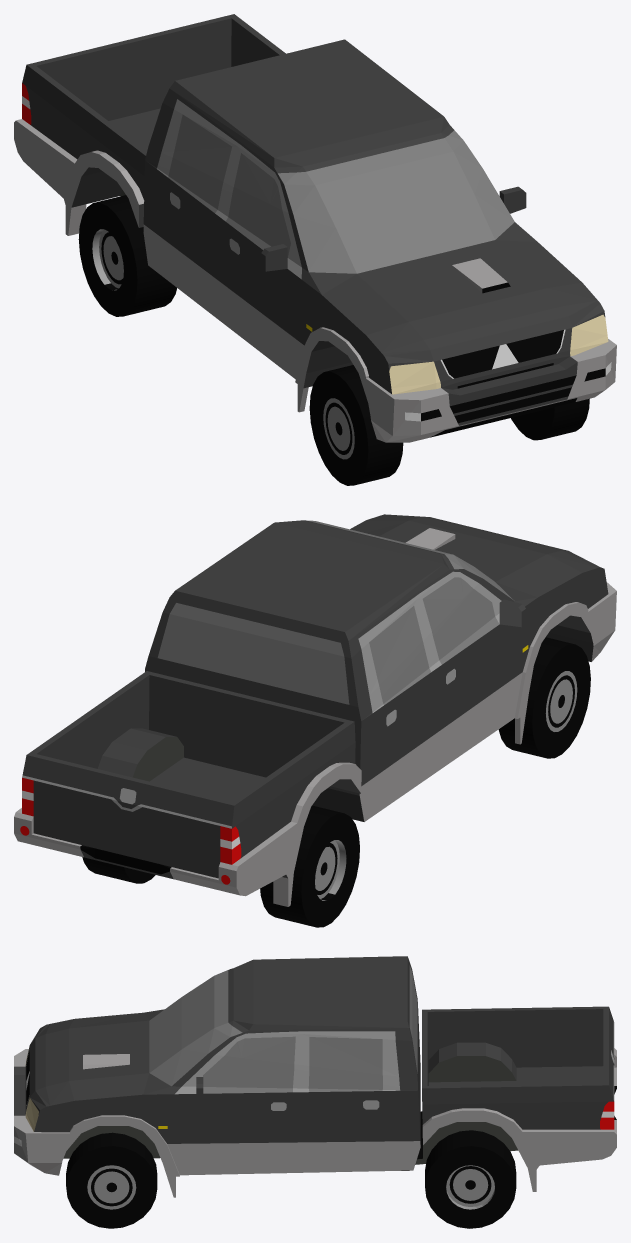
The picture shows the model from 3 angles, top to bottom: view 1: azimuth 30°, elevation 25°; view 2: azimuth 150°, elevation 25°; view 3: azimuth 270°, elevation 25°; orthographic projection. The views are drawn at different scales.
Visible parts, largest first — view 1: node-0; view 2: node-0; view 3: node-0.
Part boxes in pixels (x1=…): node-0: x1=14, y1=14, x2=616, y2=485; node-0: x1=14, y1=514, x2=616, y2=927; node-0: x1=14, y1=956, x2=616, y2=1228.
Bounding box in the file's own units: 0.813 × 0.7621 × 2.1.
